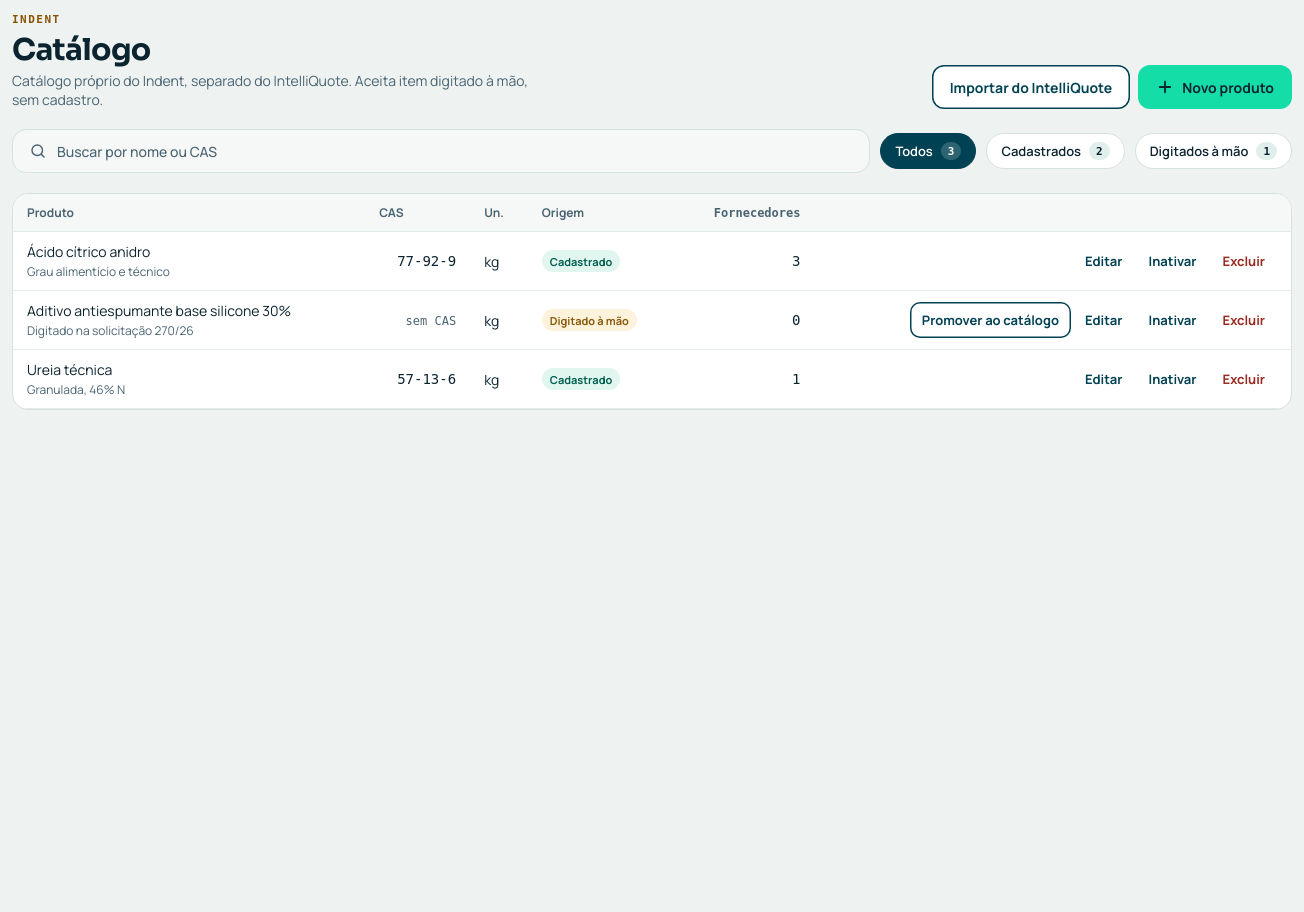
Test case: IndentCatalogo › promover: POST em /products/:id/promote e toast com o nome do produto
Click the button "Promover ao catálogo": [990, 320] box top-left (910, 302), bottom-right (1071, 338)
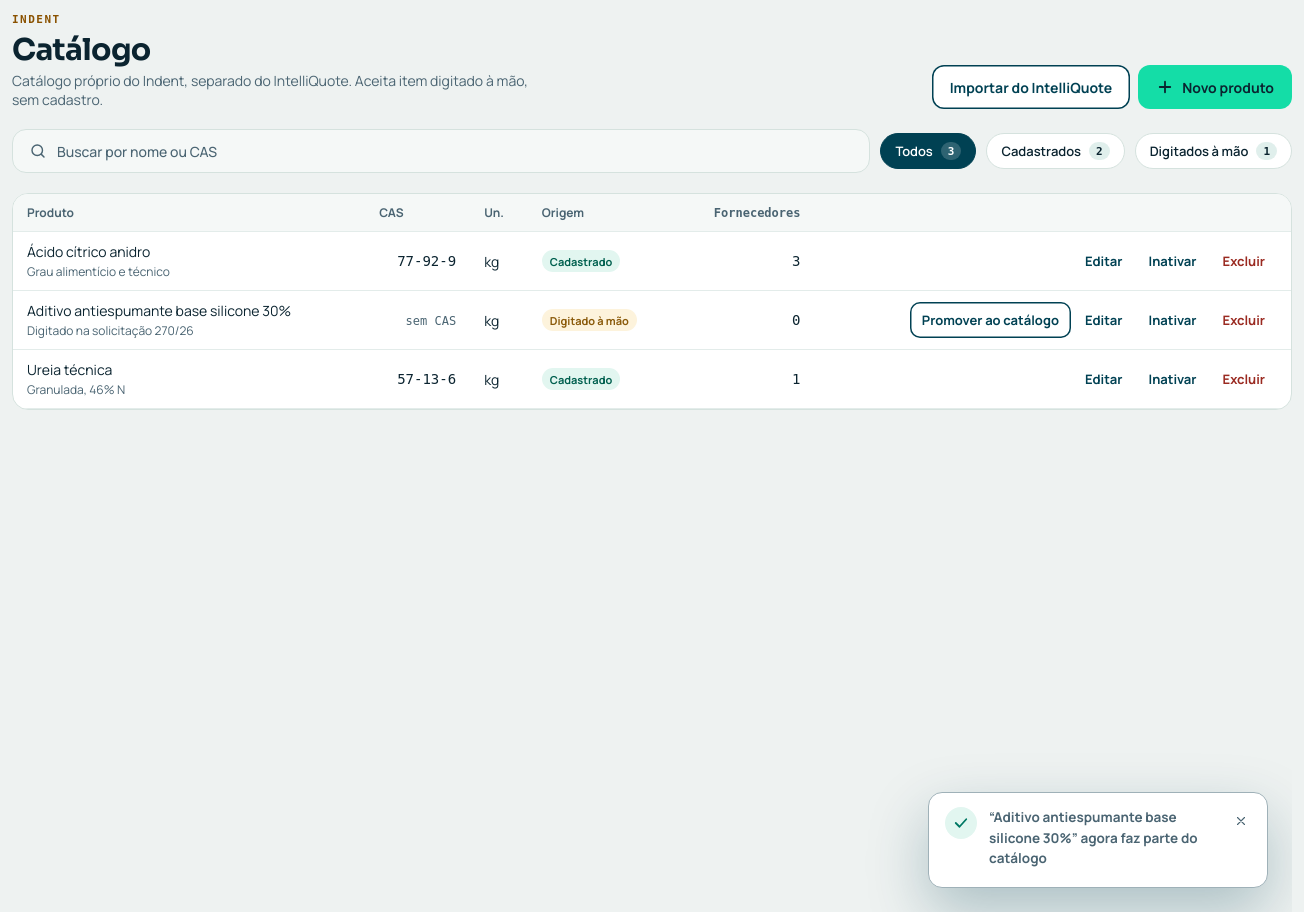
Check: the message with test id "fc-toast" reads "“Aditivo antiespumante base silicone 30%” agora faz parte do catálogo", box top-left (989, 808), bottom-right (1198, 867)
